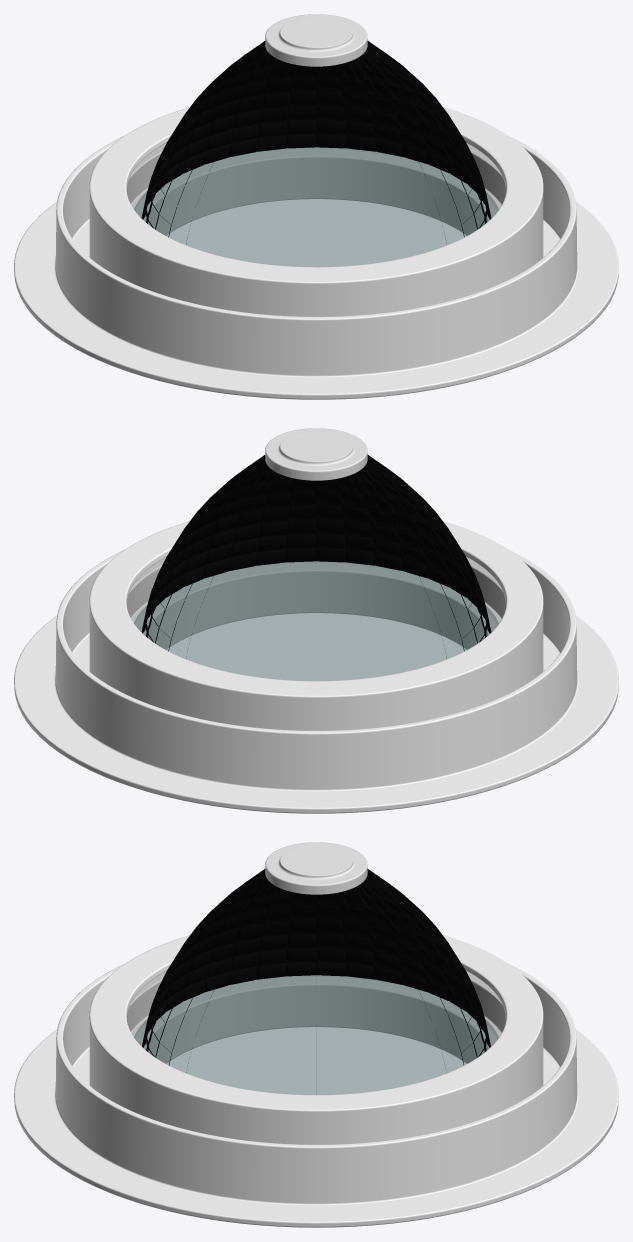
The model's file is AM152_063_Lugstar_Premium_LED.obj.
The picture shows the model from 3 angles, top to bottom: view 1: azimuth 30°, elevation 25°; view 2: azimuth 150°, elevation 25°; view 3: azimuth 270°, elevation 25°; orthographic projection.
Visible parts, largest first — view 1: AM152_063_34, AM152_063_33, AM152_063_35, AM152_063_32, AM152_063_31; view 2: AM152_063_34, AM152_063_33, AM152_063_35, AM152_063_32, AM152_063_31; view 3: AM152_063_34, AM152_063_33, AM152_063_35, AM152_063_32, AM152_063_31.
Boxes of the visible parts, x1=… form: AM152_063_34: x1=14, y1=107, x2=618, y2=399; AM152_063_33: x1=134, y1=147, x2=498, y2=267; AM152_063_35: x1=141, y1=41, x2=491, y2=244; AM152_063_32: x1=127, y1=143, x2=505, y2=235; AM152_063_31: x1=265, y1=14, x2=367, y2=66; AM152_063_34: x1=14, y1=521, x2=618, y2=813; AM152_063_33: x1=134, y1=561, x2=498, y2=681; AM152_063_35: x1=141, y1=455, x2=491, y2=658; AM152_063_32: x1=127, y1=557, x2=505, y2=649; AM152_063_31: x1=265, y1=428, x2=367, y2=480; AM152_063_34: x1=14, y1=935, x2=618, y2=1227; AM152_063_33: x1=134, y1=975, x2=498, y2=1094; AM152_063_35: x1=142, y1=869, x2=490, y2=1072; AM152_063_32: x1=127, y1=971, x2=505, y2=1063; AM152_063_31: x1=265, y1=842, x2=367, y2=894.
Bounding box in the file's own units: 19.21 × 8.41 × 19.21.
